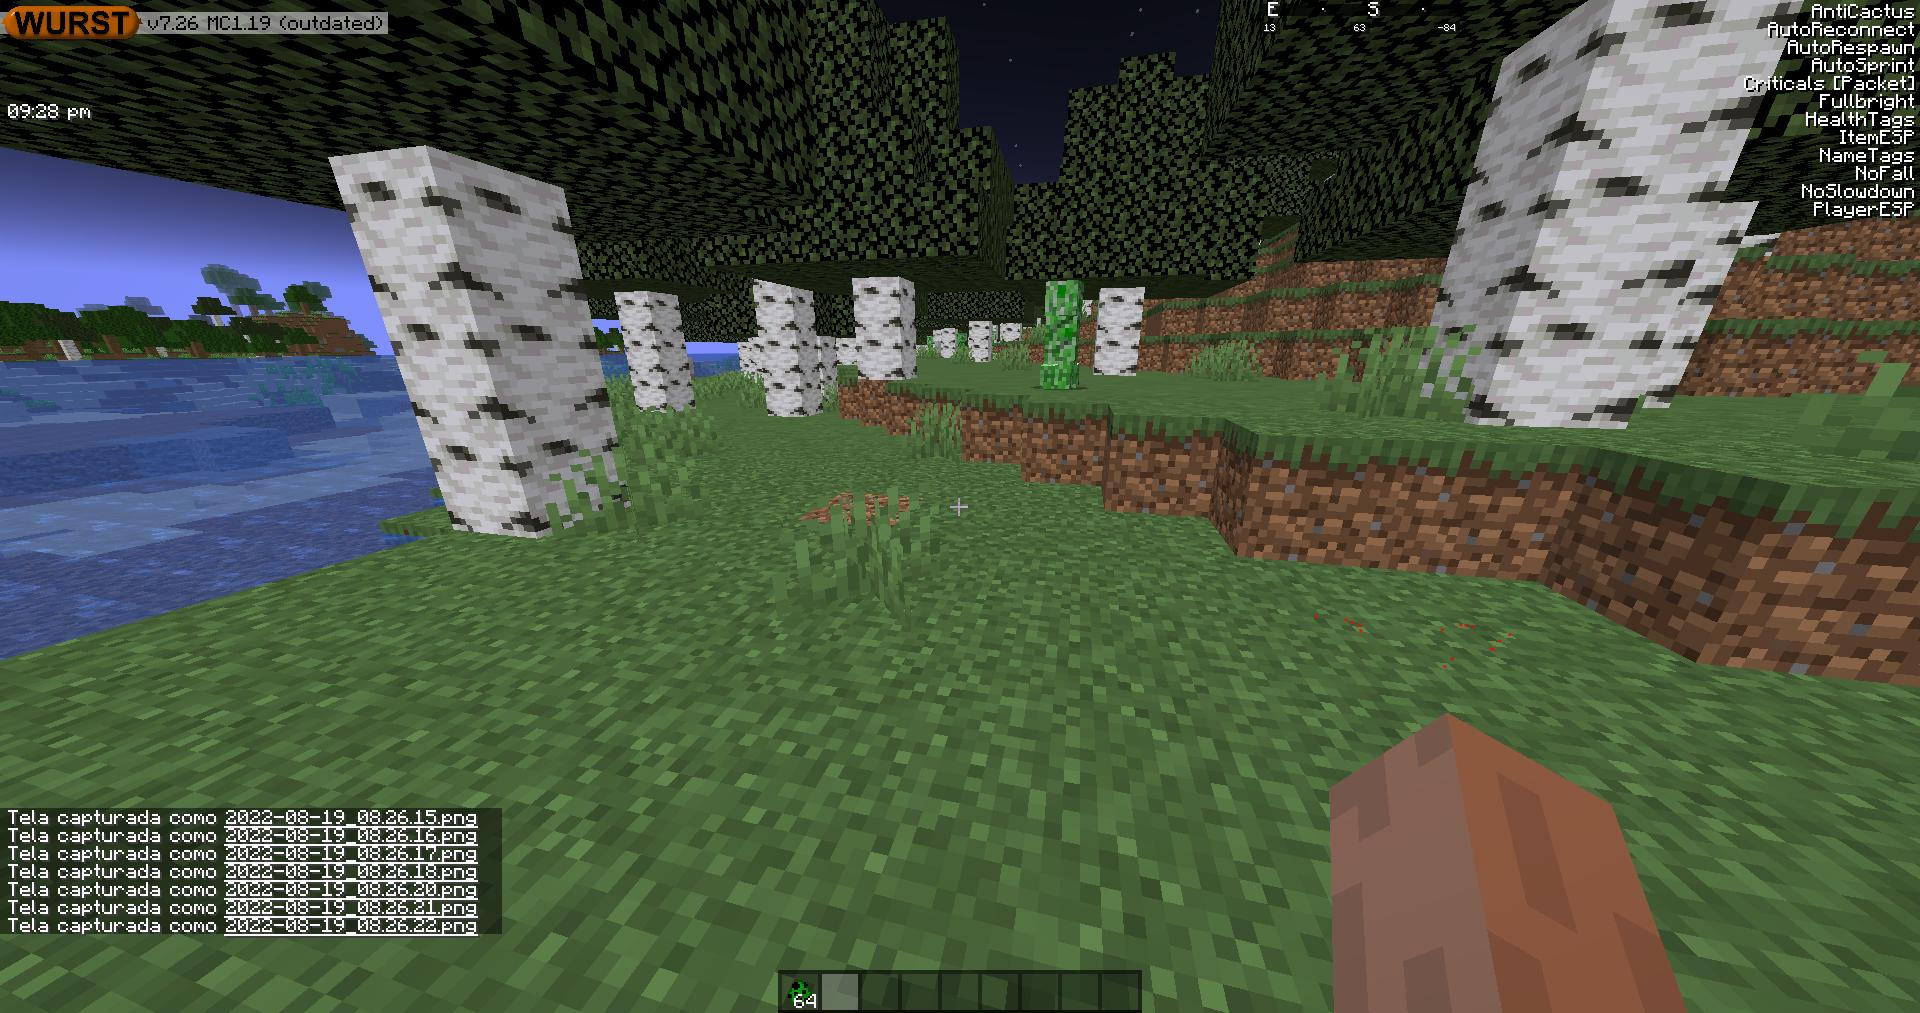creeper: (1036, 277, 1081, 395)
